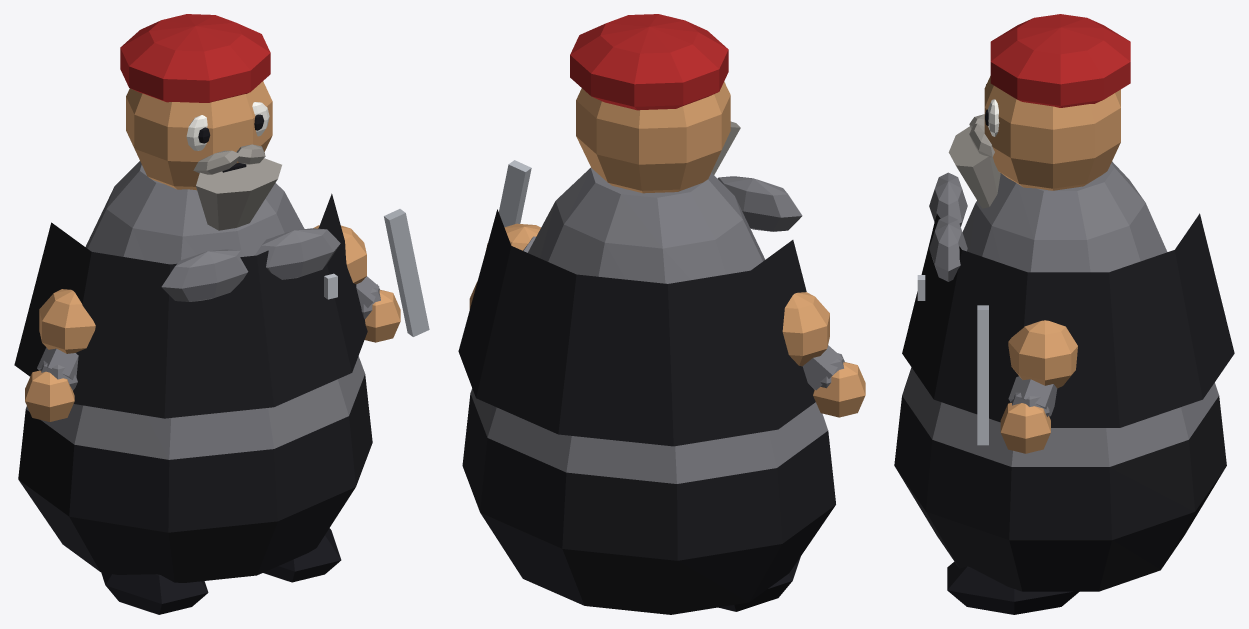
The model's file is npc_motoquero.glb.
3 views of the same model, side by side, from view 1: azimuth 30°, elevation 25°; view 2: azimuth 150°, elevation 25°; view 3: azimuth 270°, elevation 25° (orthographic). The views are drawn at different scales.
Parts seen in each view (by area): view 1: body_biker_leather, body_shorts_black, body_tank_grey, head_biker_red, head_skin_arena, arms_skin_arena, face_biker_beard, legs_black, props_wrench_steel, arms_tank_grey, face_white; view 2: body_biker_leather, body_shorts_black, body_tank_grey, head_biker_red, head_skin_arena, arms_skin_arena, props_wrench_steel, arms_tank_grey, legs_black; view 3: body_biker_leather, body_shorts_black, body_tank_grey, head_biker_red, head_skin_arena, arms_skin_arena, legs_black, face_biker_beard, props_wrench_steel, arms_tank_grey.
Boxes of the visible parts, left/top/right/bottom form: body_biker_leather: left=14, top=193, right=367, bottom=418; body_shorts_black: left=18, top=374, right=372, bottom=582; body_tank_grey: left=26, top=161, right=364, bottom=459; head_biker_red: left=120, top=14, right=270, bottom=102; head_skin_arena: left=126, top=81, right=272, bottom=190; arms_skin_arena: left=25, top=225, right=400, bottom=421; face_biker_beard: left=193, top=144, right=281, bottom=230; legs_black: left=101, top=528, right=341, bottom=614; props_wrench_steel: left=384, top=209, right=429, bottom=336; arms_tank_grey: left=37, top=276, right=380, bottom=390; face_white: left=186, top=102, right=269, bottom=150; body_biker_leather: left=458, top=209, right=815, bottom=446; body_shorts_black: left=462, top=393, right=835, bottom=614; body_tank_grey: left=470, top=167, right=828, bottom=483; head_biker_red: left=570, top=14, right=728, bottom=110; head_skin_arena: left=576, top=82, right=730, bottom=193; arms_skin_arena: left=469, top=223, right=865, bottom=417; props_wrench_steel: left=498, top=160, right=531, bottom=227; arms_tank_grey: left=523, top=236, right=844, bottom=390; legs_black: left=718, top=557, right=800, bottom=611; body_biker_leather: left=902, top=213, right=1234, bottom=427; body_shorts_black: left=894, top=396, right=1226, bottom=591; body_tank_grey: left=902, top=161, right=1218, bottom=466; head_biker_red: left=990, top=14, right=1130, bottom=107; head_skin_arena: left=984, top=76, right=1120, bottom=190; arms_skin_arena: left=1000, top=320, right=1077, bottom=453; legs_black: left=947, top=561, right=1079, bottom=614; face_biker_beard: left=948, top=114, right=1000, bottom=208; props_wrench_steel: left=977, top=305, right=988, bottom=445; arms_tank_grey: left=1008, top=376, right=1057, bottom=416.
Bounding box in the file's own units: 1.15 × 1.56 × 0.88.
